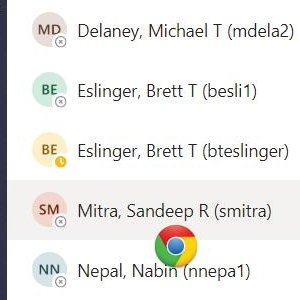chrome: (154, 224, 198, 268)
